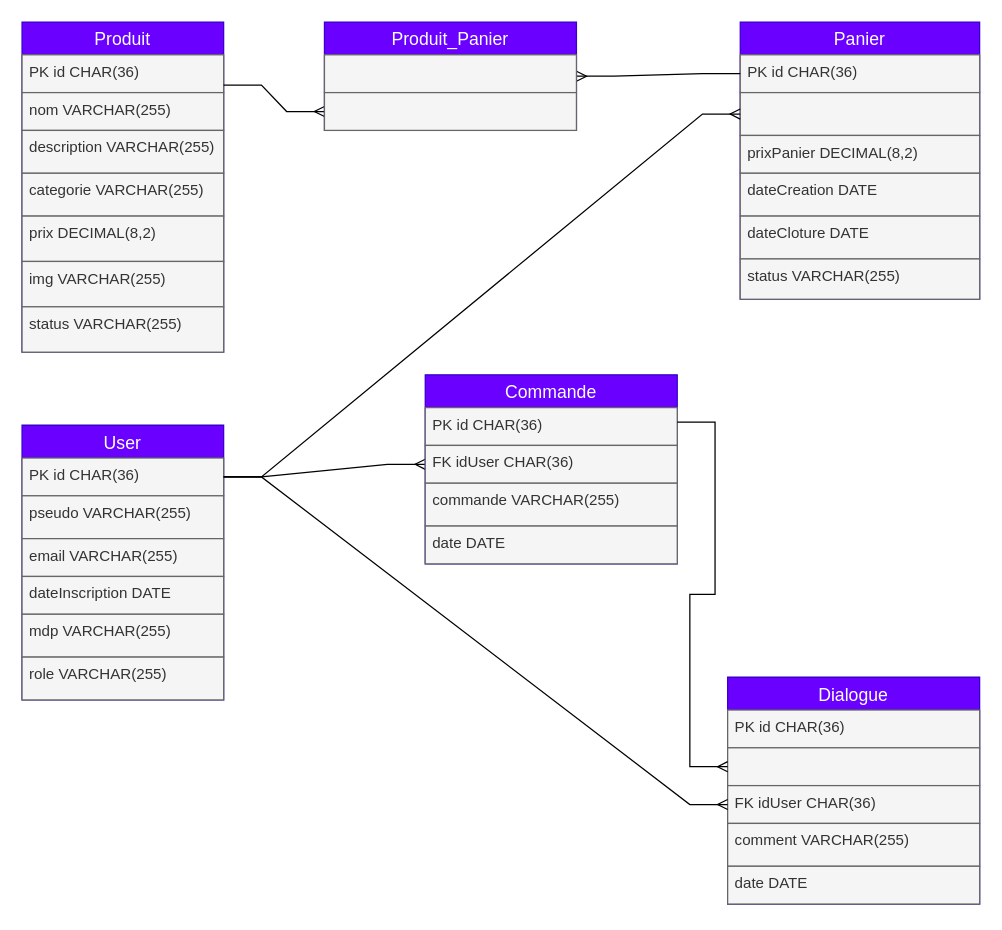
Some shapes in this 1002 by 930 pixel diagram are drawn without their labels. Here are the shapes that lost their labels. From the top down, the centre of each, then its label:
At point 449,73: "FK idPanier CHAR(36)".
At point 449,110: "FK idProduit CHAR(36)".
At point 859,113: "FK idUserPanier CHAR(36)".
At point 853,766: "FK idCommande CHAR(36)".
